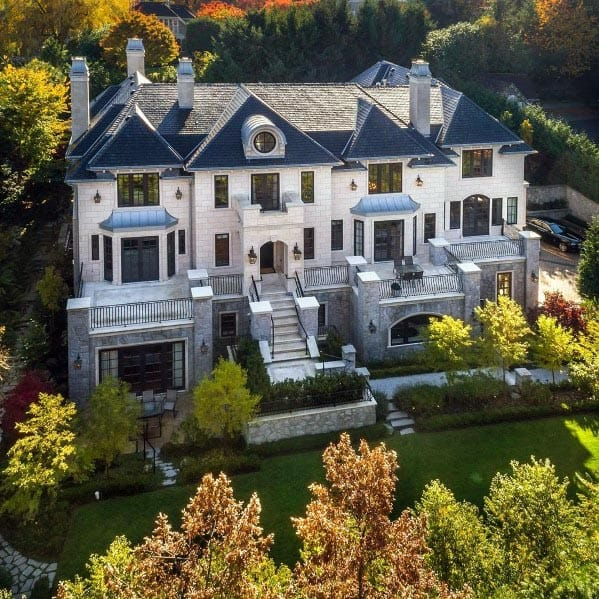tree: (10, 393, 77, 543), (187, 355, 264, 463), (73, 372, 144, 480), (476, 301, 530, 402), (423, 311, 473, 414), (528, 316, 578, 396)
